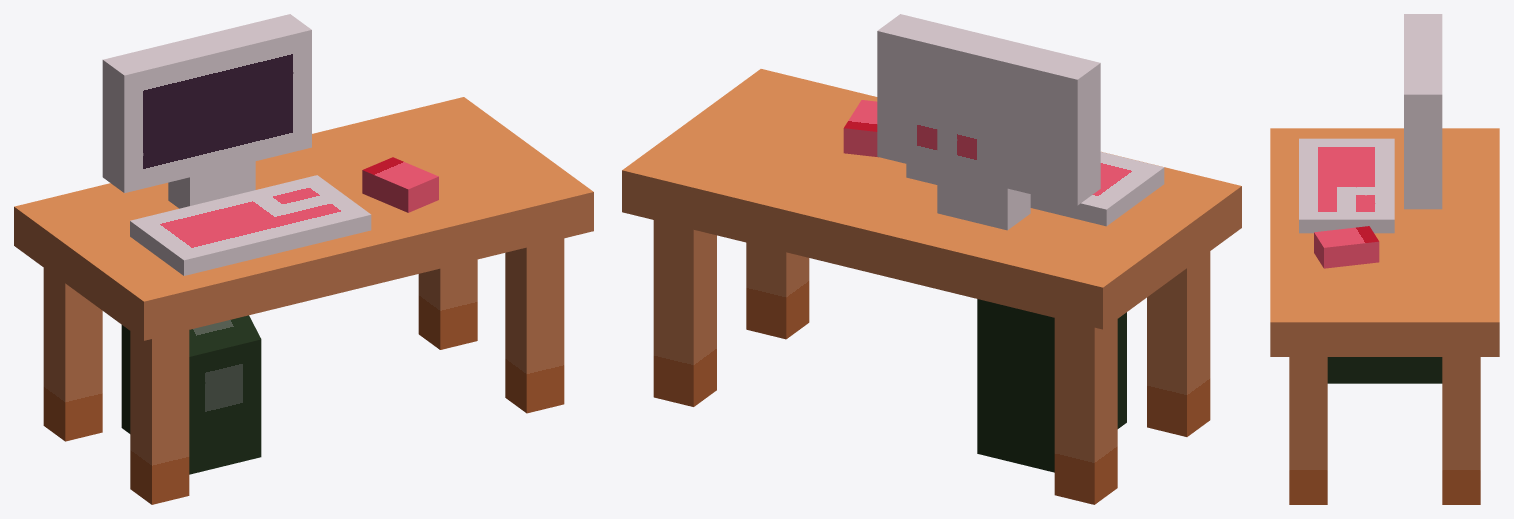
File: desk.gltf
3 views of the same model, side by side, from view 1: azimuth 30°, elevation 25°; view 2: azimuth 150°, elevation 25°; view 3: azimuth 270°, elevation 25° (orthographic). The views are drawn at different scales.
Visible parts, largest first — view 1: cuboid (×9); view 2: cuboid (×9); view 3: cuboid (×7).
Boxes of the visible parts, left/top/right/bottom form: cuboid (×9): left=14, top=14, right=593, bottom=504; cuboid (×9): left=622, top=14, right=1241, bottom=504; cuboid (×7): left=1270, top=14, right=1499, bottom=504.
Bounding box in the file's own units: 0.75 × 0.5938 × 0.375.
6 materials, 6 textured.
